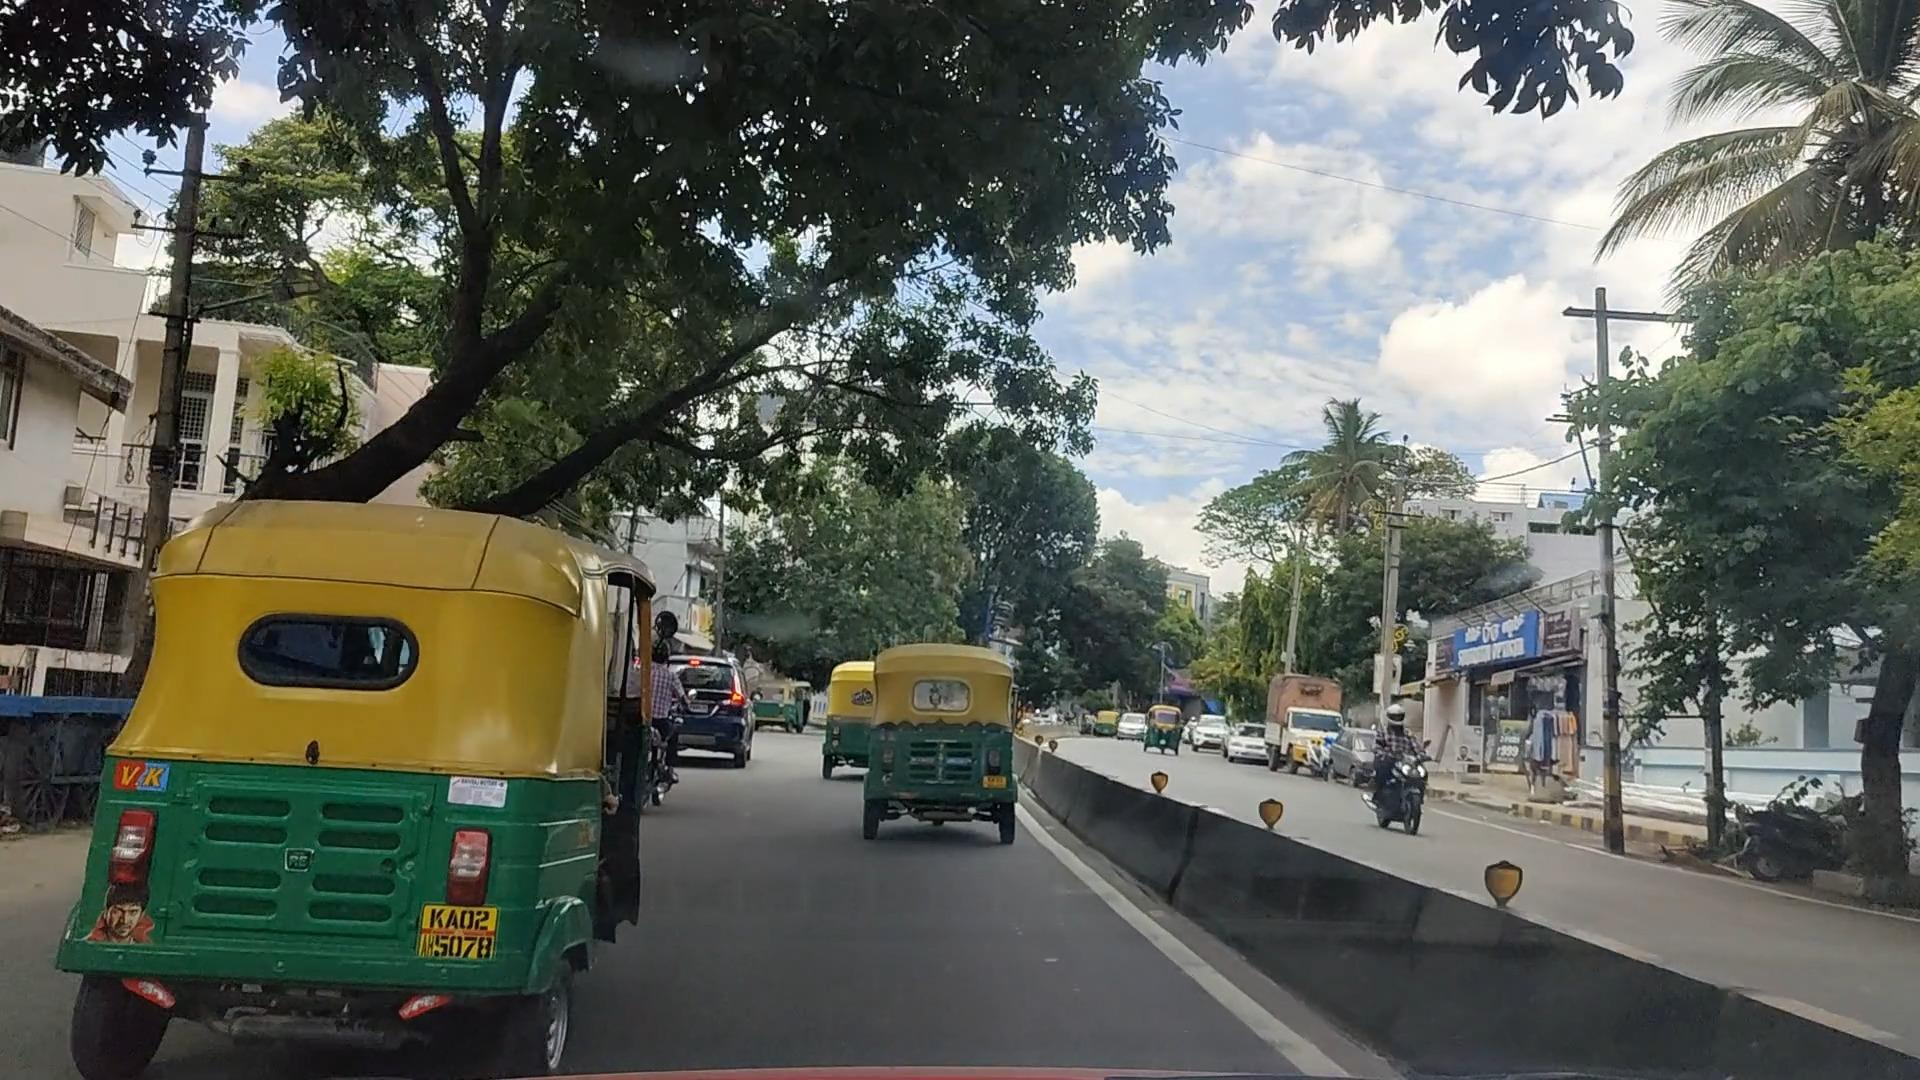LMV: (105, 510, 659, 1059), (851, 638, 1038, 835)
